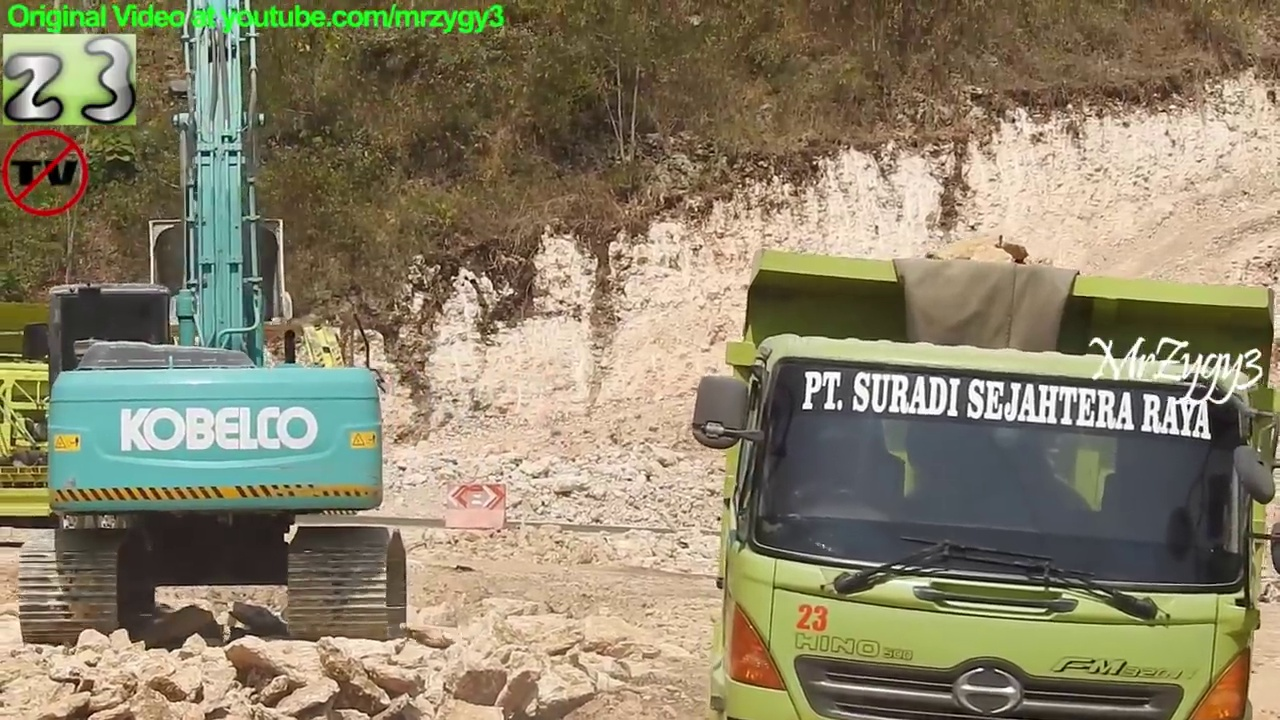excavator: (9, 1, 420, 648)
truck: (689, 243, 1280, 720), (1, 289, 396, 536)
